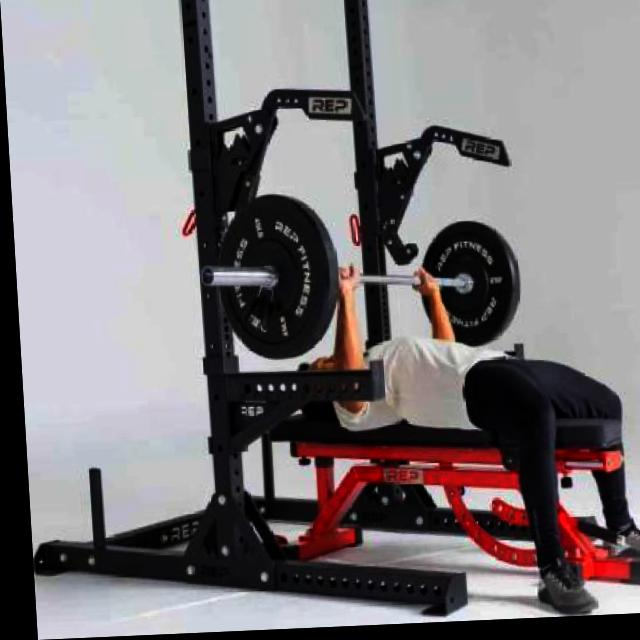barbell: (194, 194, 336, 367)
